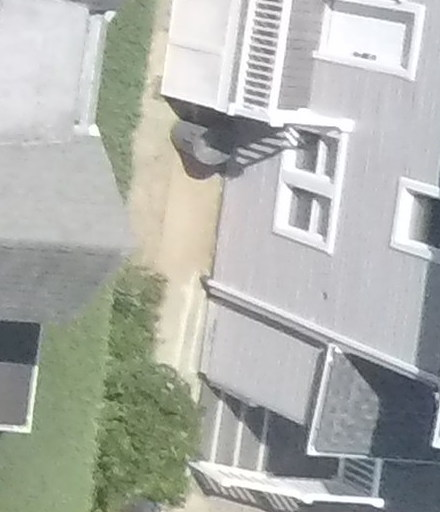trash bin: (169, 113, 239, 171)
